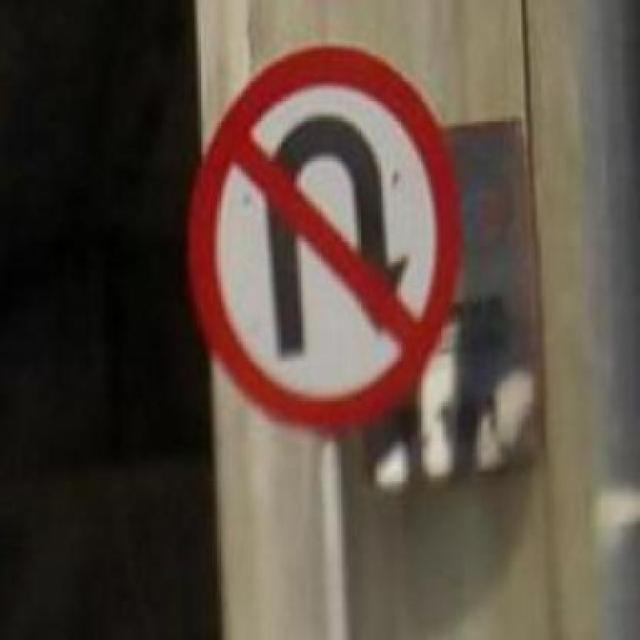u turn prohibited: (176, 42, 462, 432)
